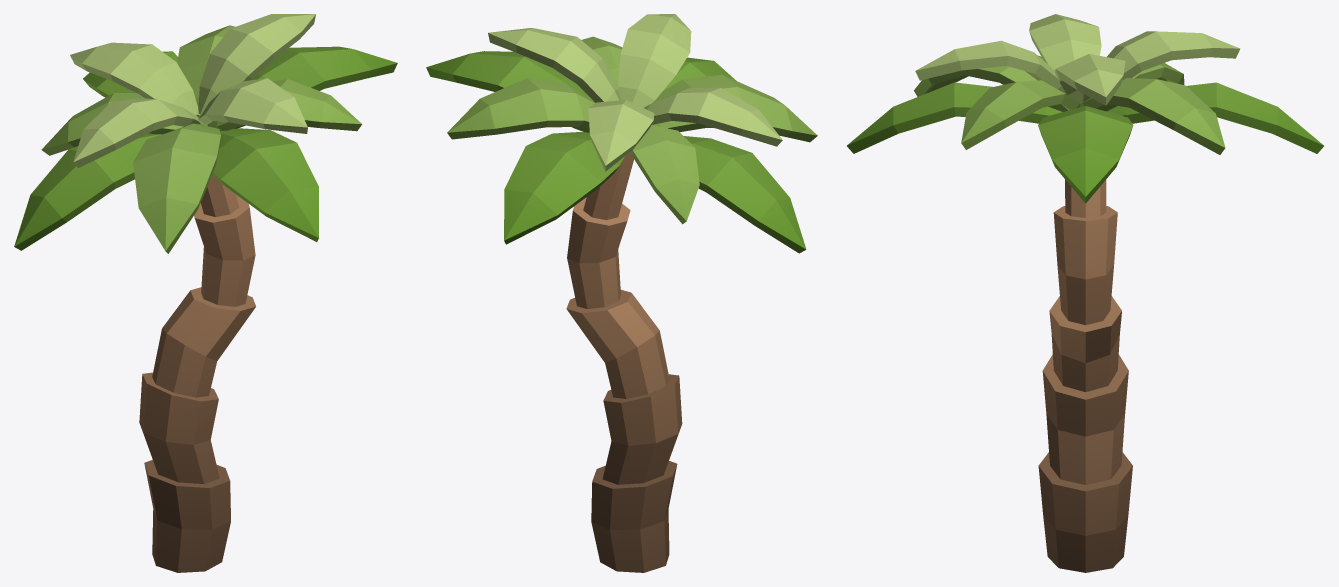
The model's file is palm-tree-bent-2.glb.
3 renders of one model, left to right at view 1: azimuth 30°, elevation 25°; view 2: azimuth 150°, elevation 25°; view 3: azimuth 270°, elevation 25°, orthographic. The views are drawn at different scales.
Parts seen in each view (by area): view 1: palm tree bent 2; view 2: palm tree bent 2; view 3: palm tree bent 2.
Boxes of the visible parts, left/top/right/bottom form: palm tree bent 2: left=14, top=14, right=397, bottom=572; palm tree bent 2: left=426, top=14, right=817, bottom=572; palm tree bent 2: left=847, top=14, right=1323, bottom=572.
Bounding box in the file's own units: 5.12 × 6.53 × 5.24.
Materials: 1 (1 with a texture image).
